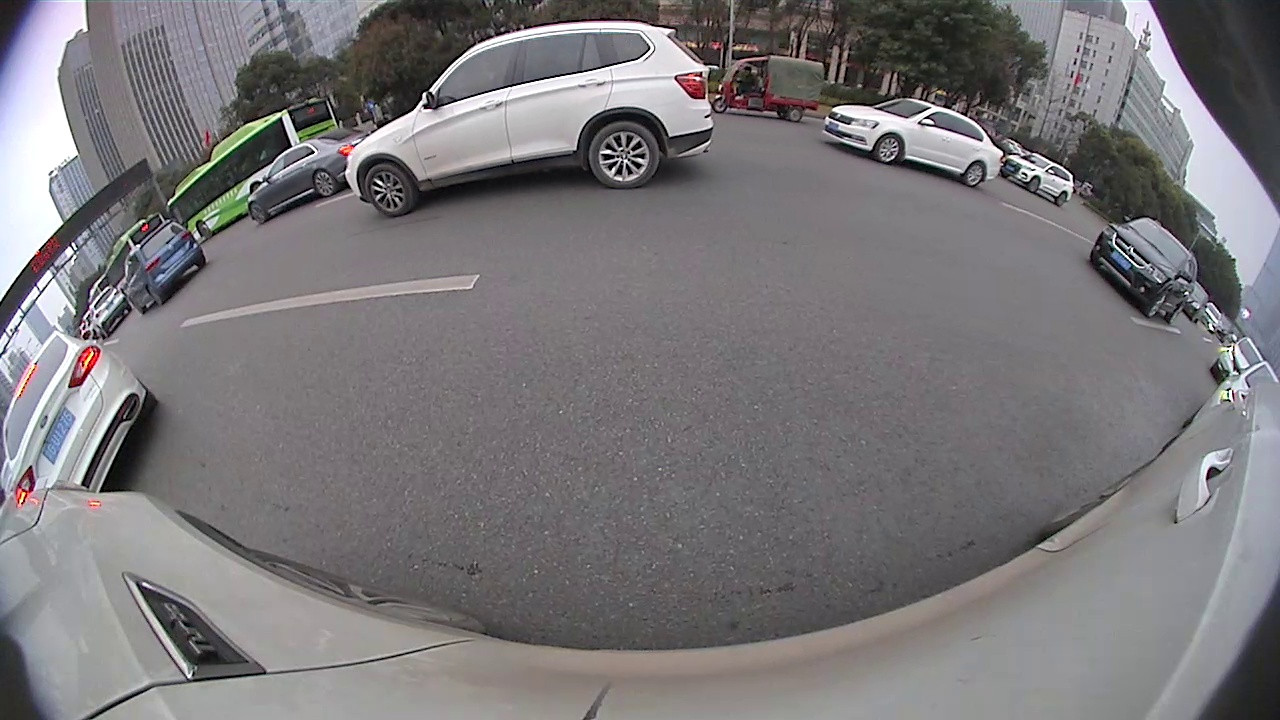bus: (163, 91, 344, 245)
car: (342, 20, 720, 222), (4, 330, 158, 501), (819, 93, 1008, 193), (244, 133, 380, 227), (1087, 215, 1198, 324), (124, 217, 208, 319), (998, 149, 1078, 208)
front: (362, 162, 415, 218), (873, 134, 902, 163), (249, 203, 267, 226)
rear: (587, 118, 663, 187), (312, 169, 338, 198), (963, 161, 986, 188), (788, 106, 802, 123)
rider: (713, 54, 829, 122)
